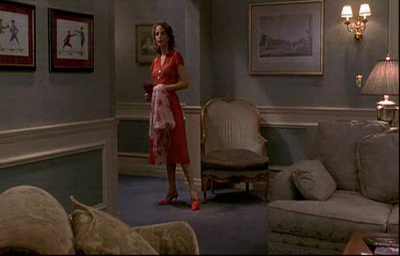face: (155, 25, 169, 46)
ls: (1, 1, 400, 256)
person: (143, 20, 201, 211)
